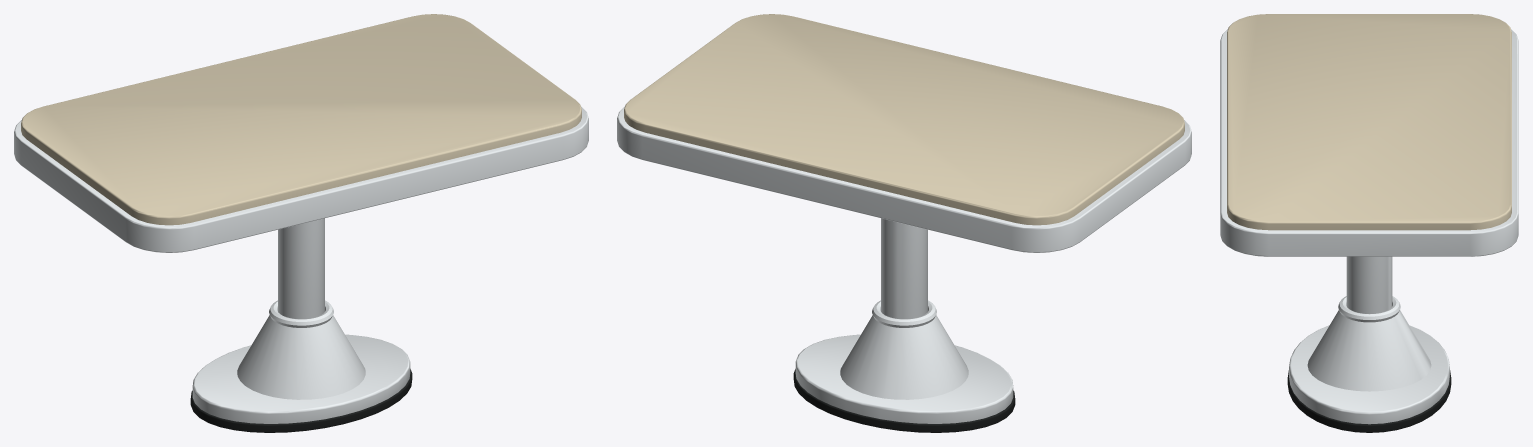
Rendered from diner_pedestal_table.glb.
The picture shows the model from 3 angles, left to right: view 1: azimuth 30°, elevation 25°; view 2: azimuth 150°, elevation 25°; view 3: azimuth 270°, elevation 25°; orthographic projection. The views are drawn at different scales.
Visible parts, largest first — view 1: diner_pedestal_table_ss_cream_formica_pbr, diner_pedestal_table_ss_polished_chrome, diner_pedestal_table_ss_black_rubber; view 2: diner_pedestal_table_ss_cream_formica_pbr, diner_pedestal_table_ss_polished_chrome, diner_pedestal_table_ss_black_rubber; view 3: diner_pedestal_table_ss_cream_formica_pbr, diner_pedestal_table_ss_polished_chrome, diner_pedestal_table_ss_black_rubber.
Boxes of the visible parts, bbox=[...] form: diner_pedestal_table_ss_cream_formica_pbr: bbox=[21, 14, 581, 225]; diner_pedestal_table_ss_polished_chrome: bbox=[14, 106, 588, 423]; diner_pedestal_table_ss_black_rubber: bbox=[190, 369, 412, 432]; diner_pedestal_table_ss_cream_formica_pbr: bbox=[624, 14, 1184, 225]; diner_pedestal_table_ss_polished_chrome: bbox=[617, 106, 1191, 423]; diner_pedestal_table_ss_black_rubber: bbox=[793, 369, 1015, 432]; diner_pedestal_table_ss_cream_formica_pbr: bbox=[1227, 14, 1511, 230]; diner_pedestal_table_ss_polished_chrome: bbox=[1220, 29, 1518, 424]; diner_pedestal_table_ss_black_rubber: bbox=[1287, 370, 1451, 432].
Size of the model in its own units: 1.36 by 0.7925 by 0.8.
